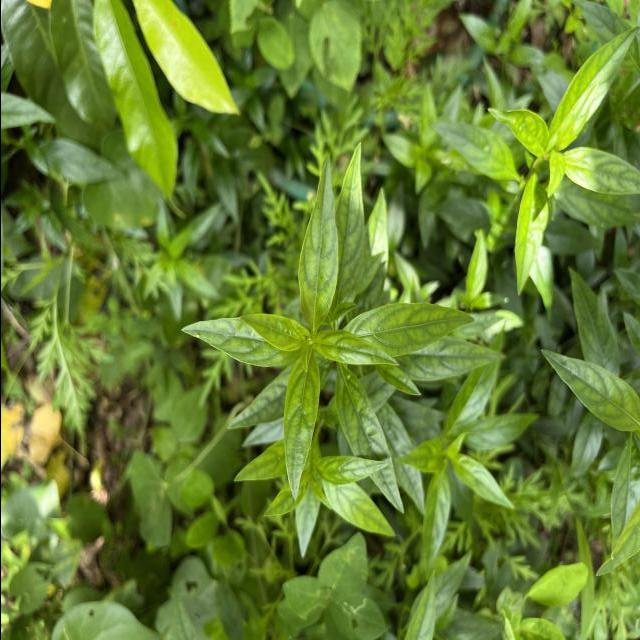Andrographis paniculata: (548, 25, 639, 142), (334, 368, 404, 518), (538, 348, 640, 432), (296, 155, 339, 331), (345, 301, 473, 356), (426, 120, 518, 182), (282, 353, 320, 502), (180, 318, 292, 368), (514, 172, 552, 297), (338, 142, 366, 296), (403, 338, 504, 380), (561, 144, 640, 197), (450, 452, 516, 510), (312, 328, 400, 367), (420, 470, 450, 582), (239, 312, 309, 352), (317, 454, 387, 486)
